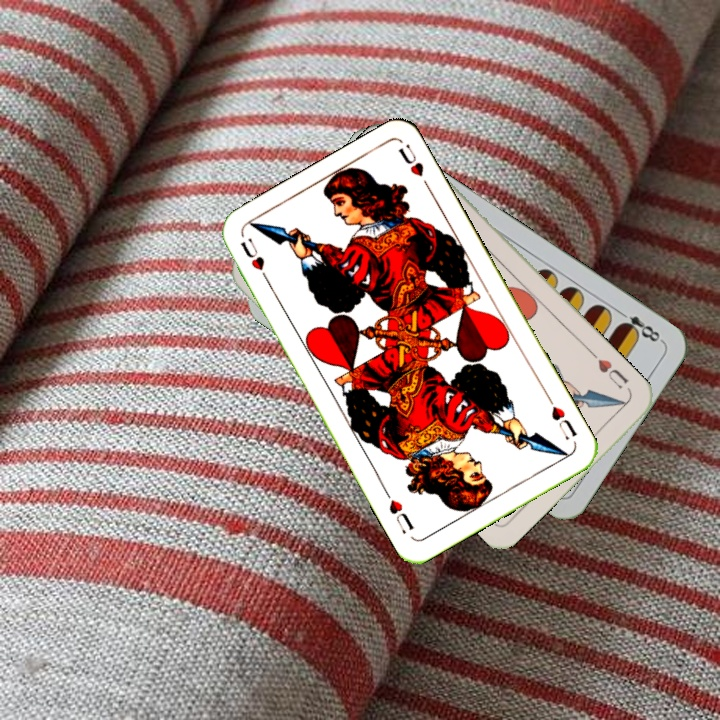E8: (613, 306, 665, 345)
HU: (236, 233, 273, 287), (588, 348, 631, 392), (543, 392, 580, 443)
